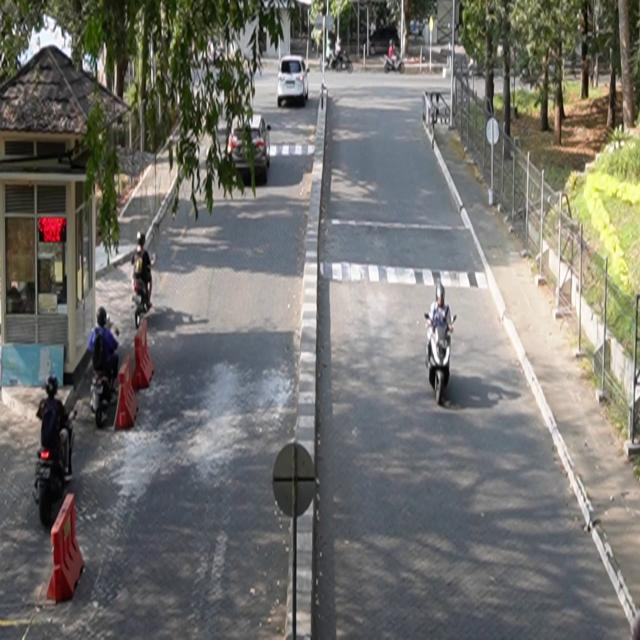car: (227, 114, 272, 185), (278, 55, 311, 108)
